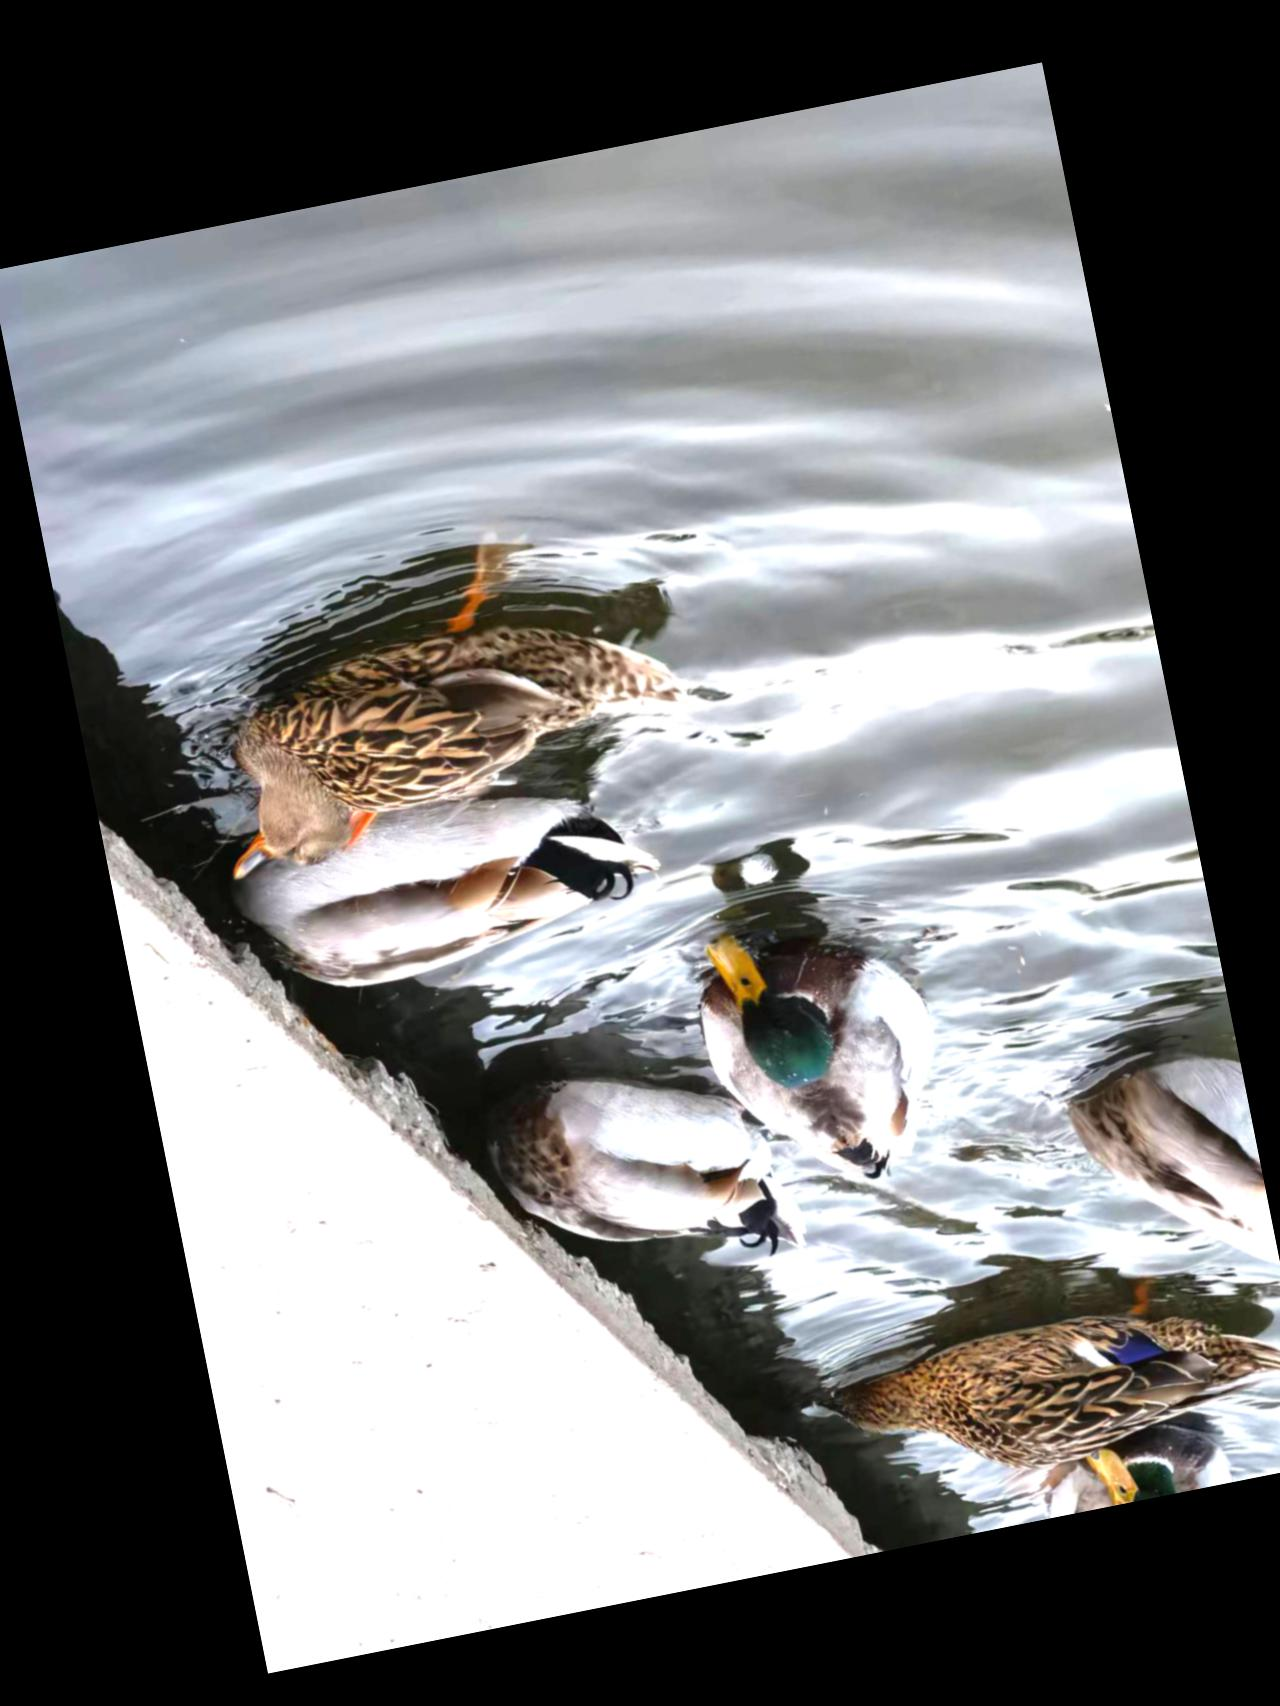duck: (169, 497, 762, 899), (208, 747, 688, 1035), (765, 1262, 1280, 1508), (428, 1004, 816, 1328), (672, 894, 969, 1227), (1034, 1007, 1275, 1280), (1029, 1402, 1233, 1516)
